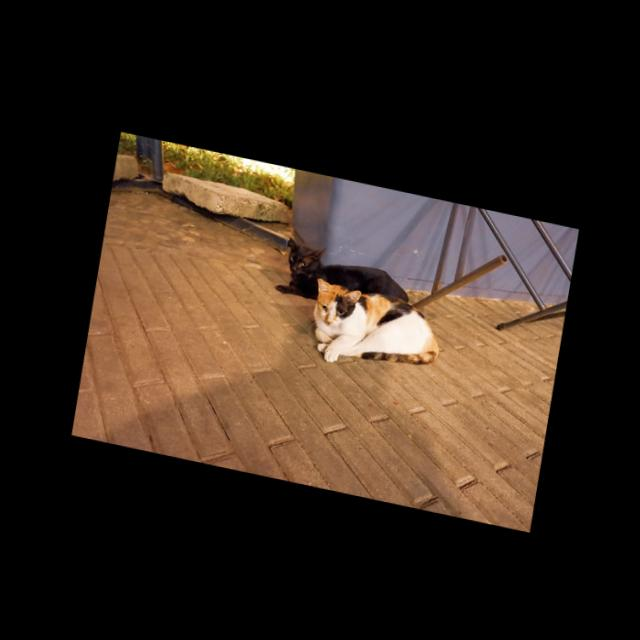animals: (302, 274, 446, 382), (275, 228, 342, 299)
